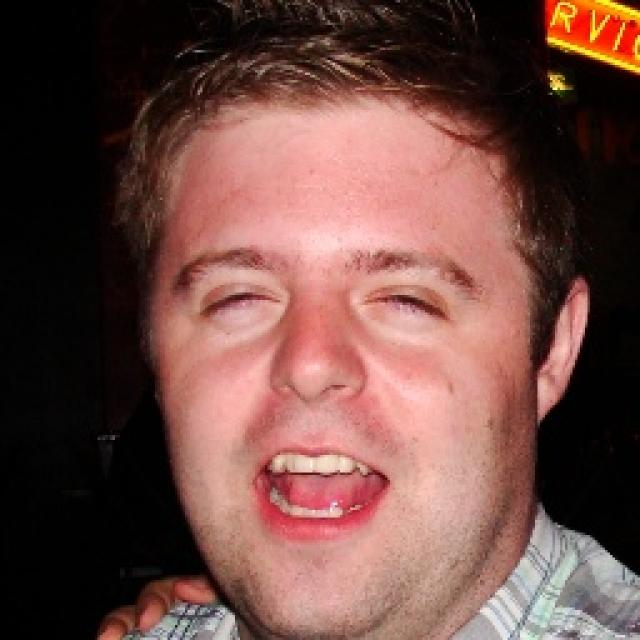earlobe: (537, 387, 562, 420)
eye: (365, 287, 448, 321), (198, 288, 279, 312)
nose: (269, 378, 358, 440)
wholeear: (533, 275, 590, 422)
